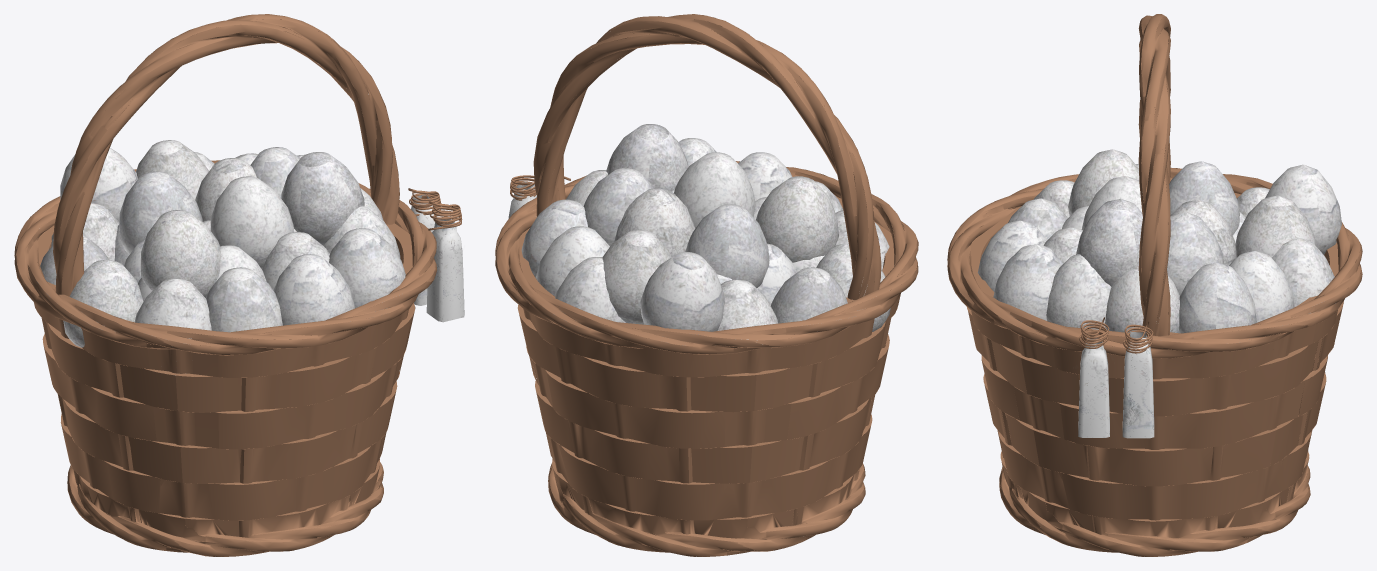
3 views of the same model, side by side, from view 1: azimuth 30°, elevation 25°; view 2: azimuth 150°, elevation 25°; view 3: azimuth 270°, elevation 25° (orthographic). The views are drawn at different scales.
Visible parts, largest first — view 1: balut; view 2: balut; view 3: balut.
Part boxes in pixels (bbox=[...]): balut: bbox=[14, 14, 464, 556]; balut: bbox=[495, 14, 918, 556]; balut: bbox=[947, 14, 1362, 556].
Size of the model in its own units: 3.28 by 3.79 by 3.08.
Materials: 7 (7 with a texture image).
